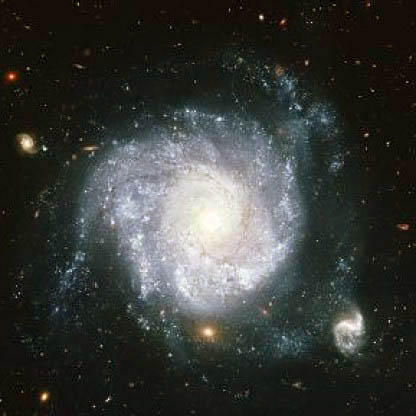NGC 1309: (11, 58, 386, 378)
